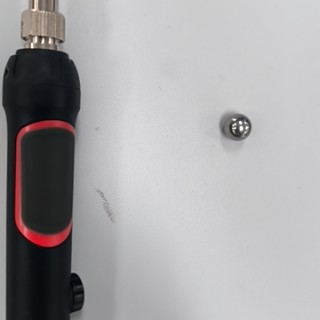ironball: (215, 102, 258, 148)
